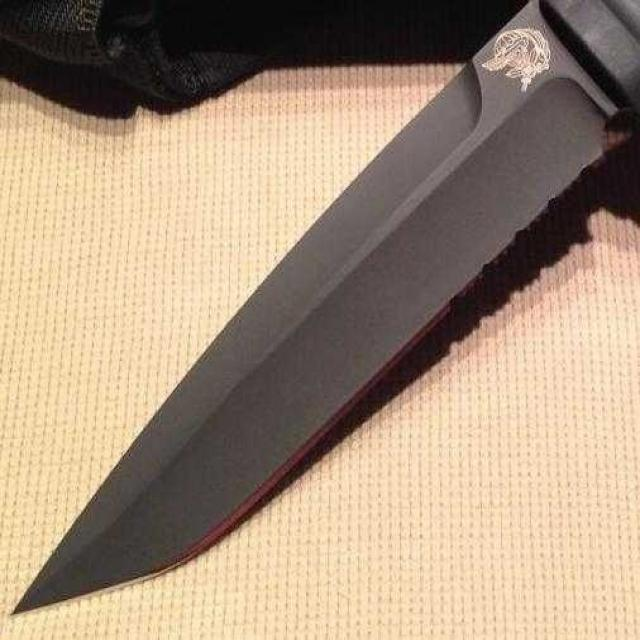Knife: (9, 0, 640, 627)
